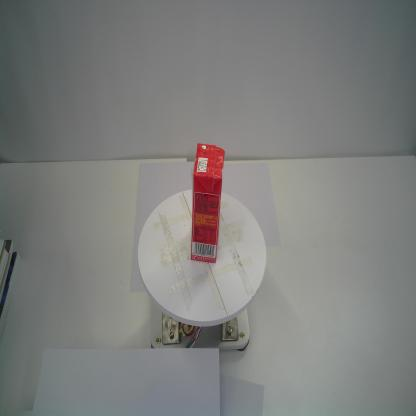Milk: (191, 143, 225, 263)
